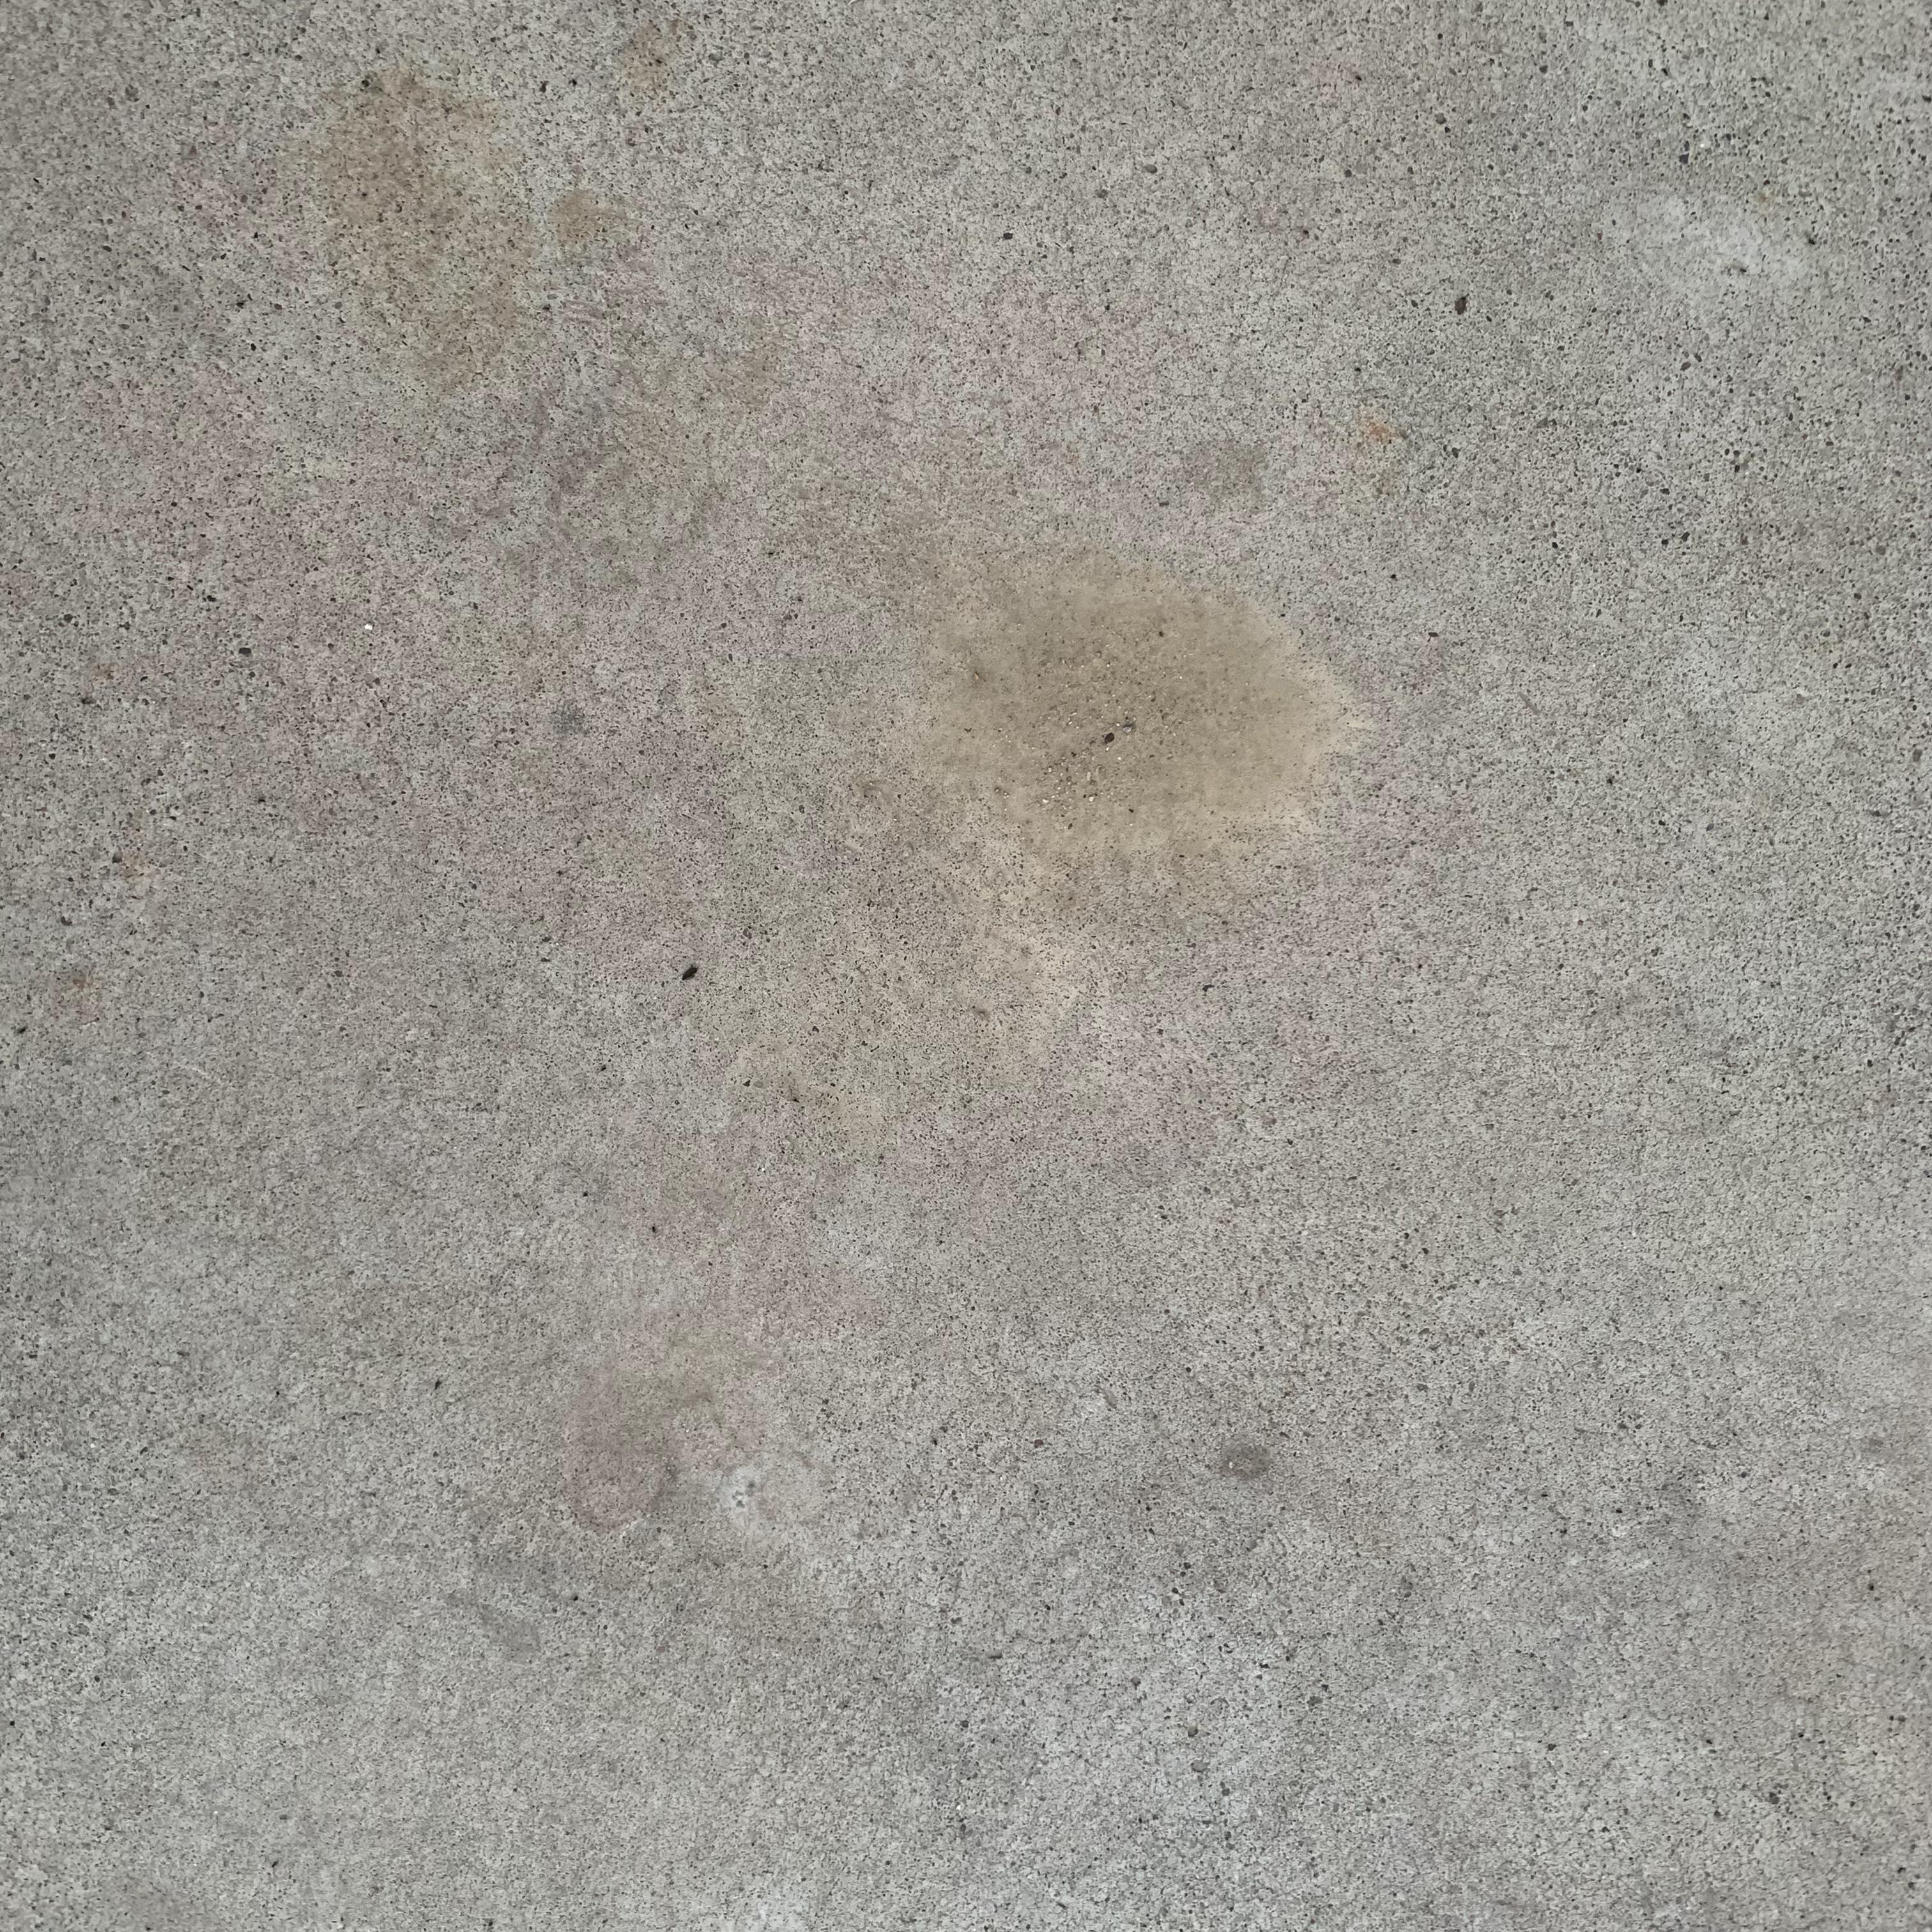ash pile: (888, 563, 1371, 867)
